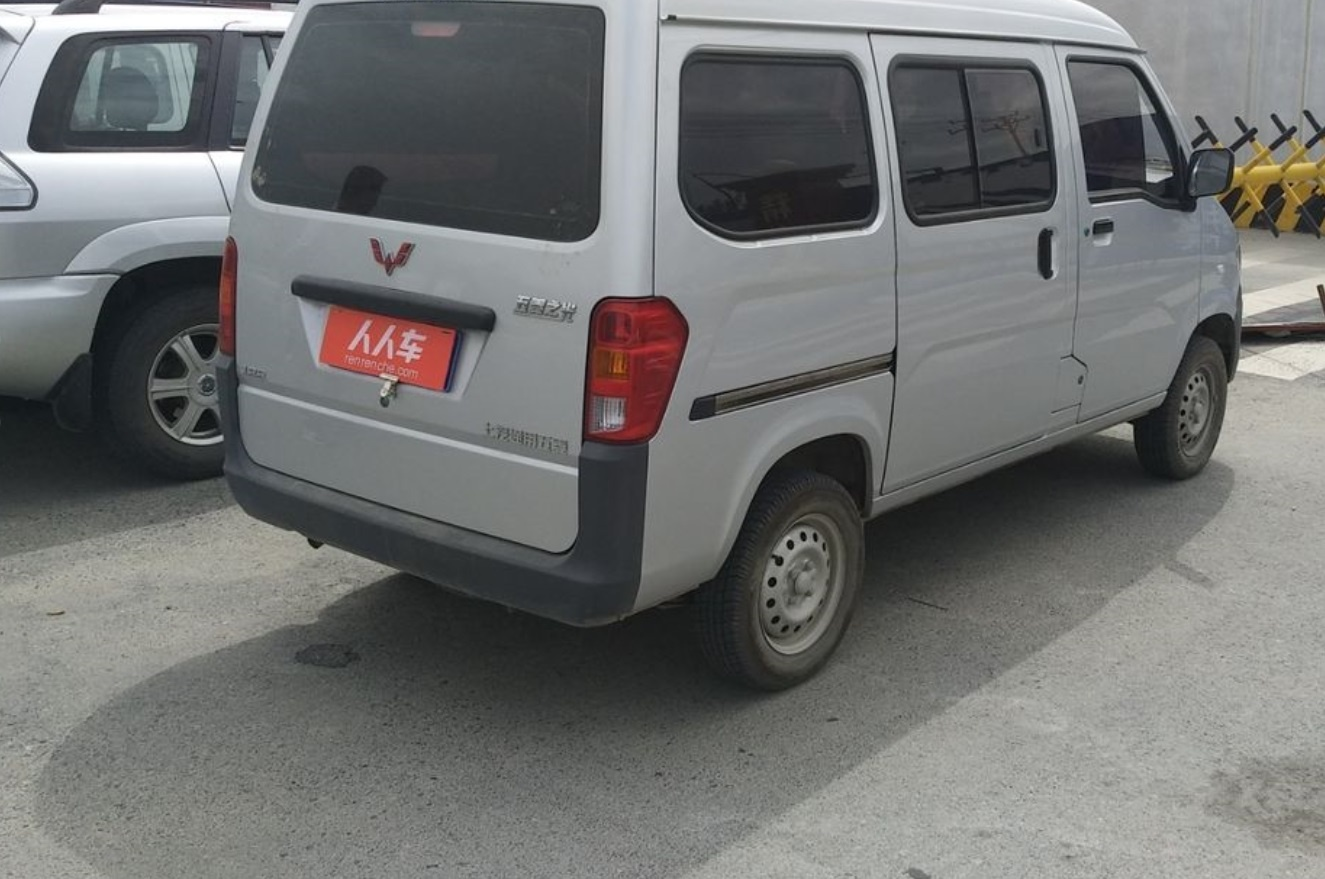minibus: (219, 18, 1251, 663)
